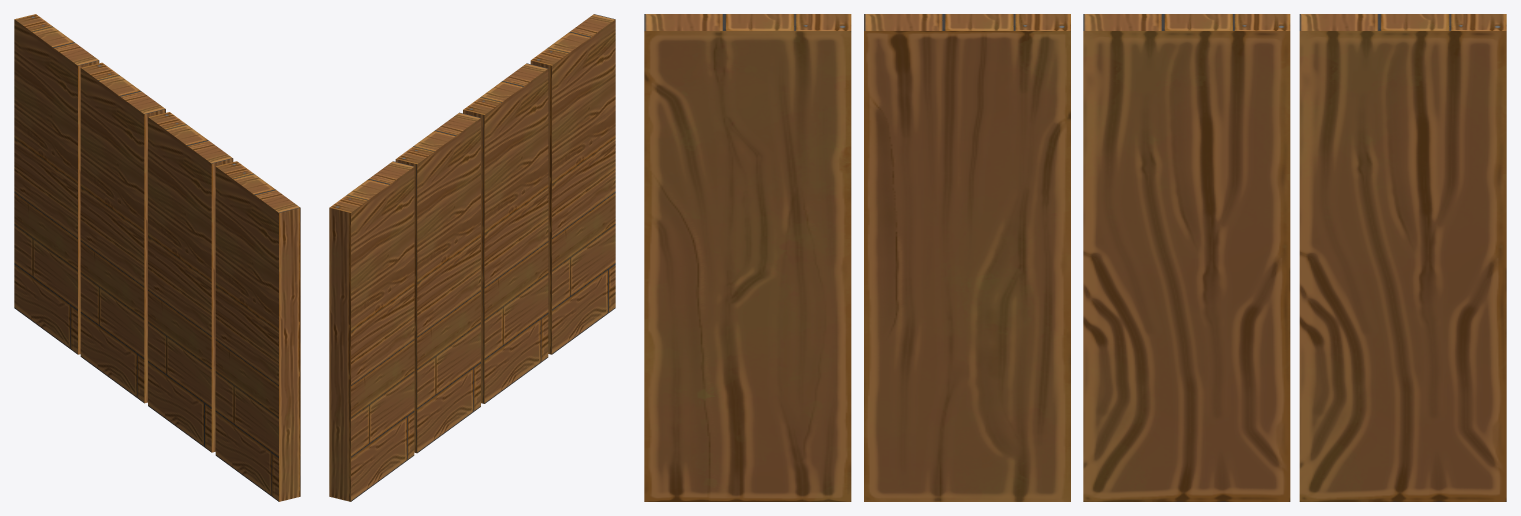
The picture shows the model from 3 angles, left to right: view 1: azimuth 30°, elevation 25°; view 2: azimuth 150°, elevation 25°; view 3: azimuth 270°, elevation 25°; orthographic projection. The views are drawn at different scales.
Visible parts, largest first — view 1: Cube.849; view 2: Cube.849; view 3: Cube.849.
Part boxes in pixels (box(x1,y1,x2,y2)): Cube.849: box(14, 14, 300, 501); Cube.849: box(329, 14, 615, 501); Cube.849: box(644, 14, 1506, 501).
Bounding box in the file's own units: 11 × 141 × 234.
Materials: 1 (1 with a texture image).
